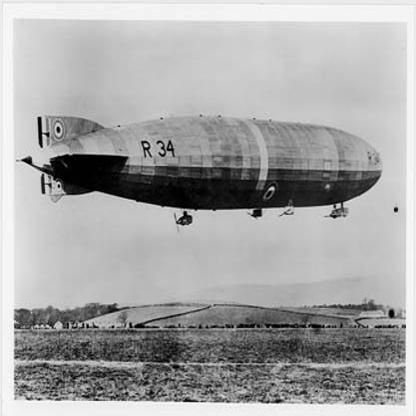Airship: (23, 112, 386, 233)
